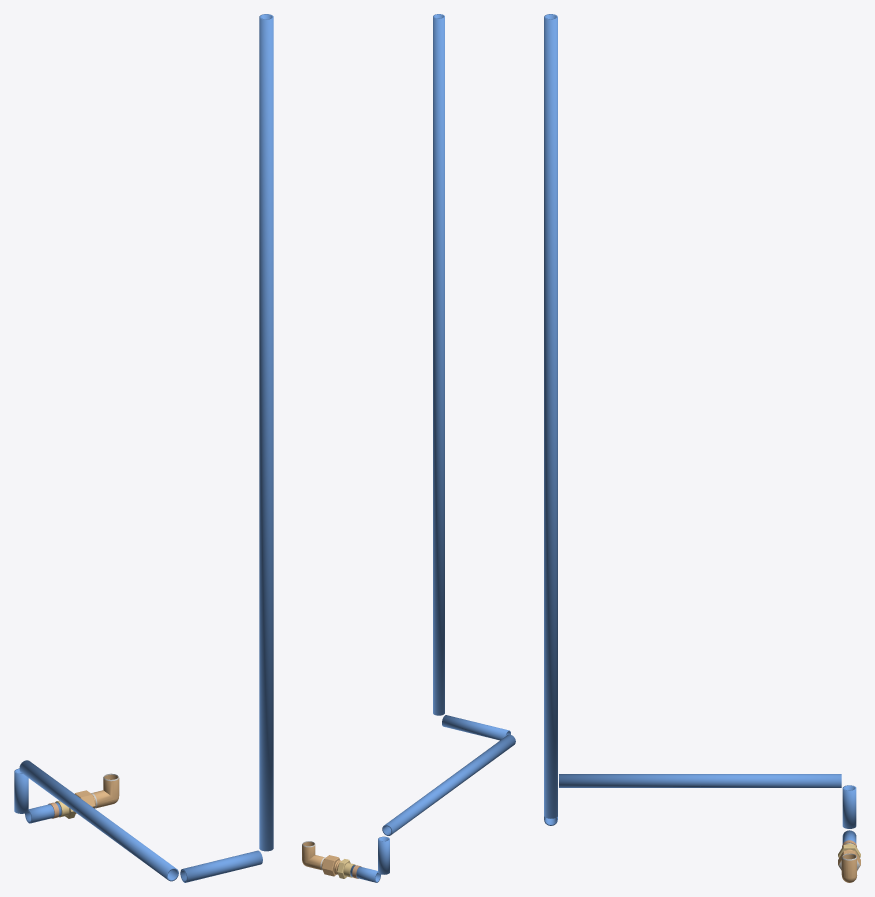
The model's file is pipes_supply__softener-yes_and_plumbing-pex__r4t.glb.
3 views of the same model, side by side, from view 1: azimuth 30°, elevation 25°; view 2: azimuth 150°, elevation 25°; view 3: azimuth 270°, elevation 25° (orthographic). The views are drawn at different scales.
Parts seen in each view (by area): view 1: pipe_supply_softener_feed__pex, fit_adapter_pipe_supply_softener_feed__pex; view 2: pipe_supply_softener_feed__pex, fit_adapter_pipe_supply_softener_feed__pex; view 3: pipe_supply_softener_feed__pex, fit_adapter_pipe_supply_softener_feed__pex.
Part boxes in pixels (bbox=[...]): pipe_supply_softener_feed__pex: bbox=[14, 14, 273, 882]; fit_adapter_pipe_supply_softener_feed__pex: bbox=[48, 773, 119, 818]; pipe_supply_softener_feed__pex: bbox=[350, 14, 515, 882]; fit_adapter_pipe_supply_softener_feed__pex: bbox=[302, 841, 361, 878]; pipe_supply_softener_feed__pex: bbox=[544, 14, 856, 844]; fit_adapter_pipe_supply_softener_feed__pex: bbox=[838, 840, 860, 882].
Bounding box in the file's own units: 0.1833 × 1.54 × 0.5095.
